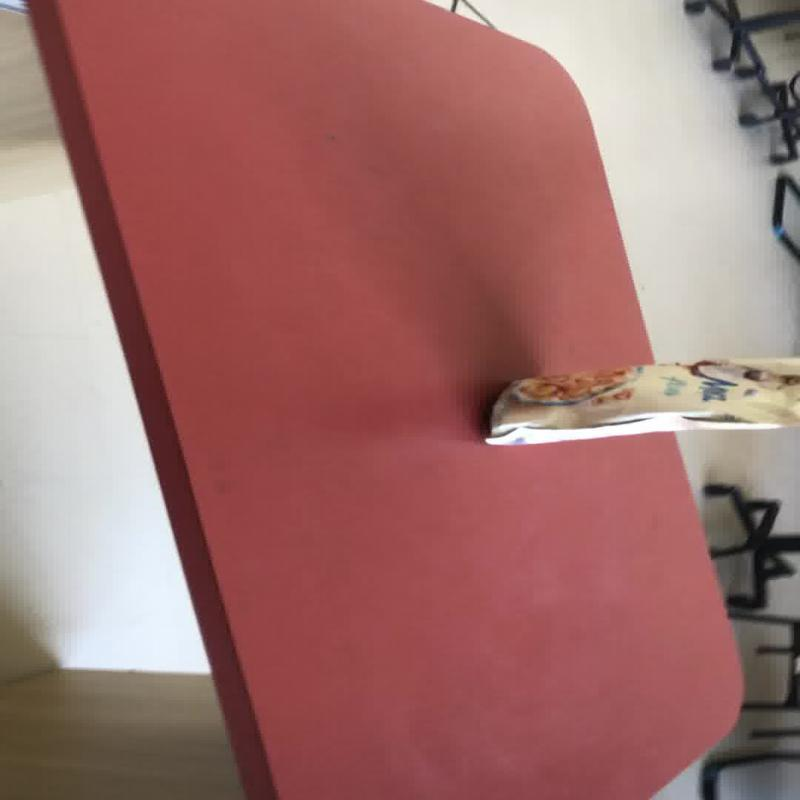corn flakes: (487, 356, 797, 436)
